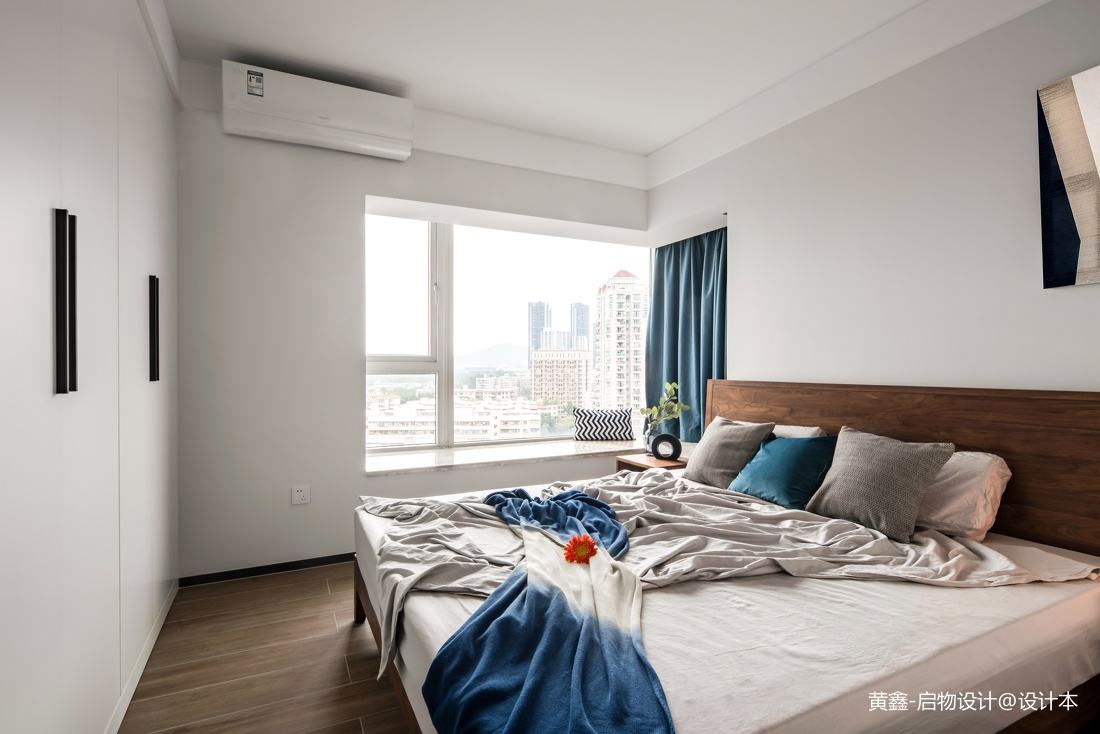床: (347, 452, 1067, 731)
枕头: (674, 421, 1001, 541), (561, 403, 635, 450)
